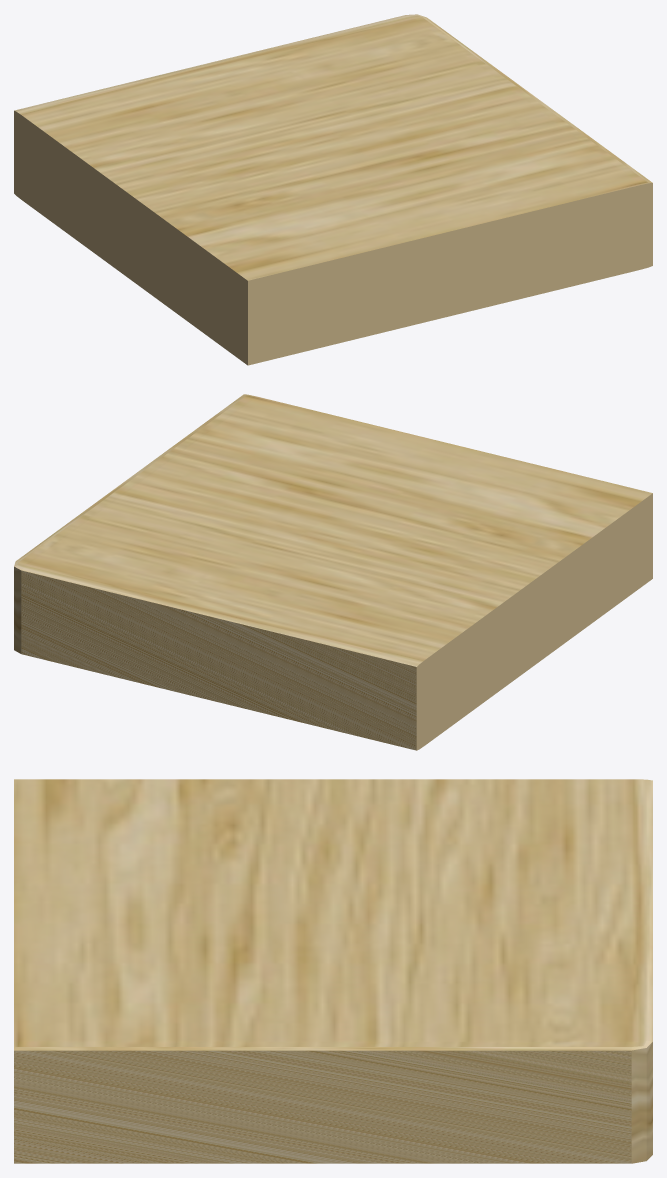
The model's file is 2_Holzbahn.fbx.
3 renders of one model, top to bottom at view 1: azimuth 30°, elevation 25°; view 2: azimuth 150°, elevation 25°; view 3: azimuth 270°, elevation 25°, orthographic. The views are drawn at different scales.
Parts seen in each view (by area): view 1: Cube.011; view 2: Cube.011; view 3: Cube.011.
Boxes of the visible parts, x1,y1,x2,y2 form: Cube.011: (14, 14, 652, 365); Cube.011: (14, 394, 652, 750); Cube.011: (14, 779, 652, 1163).
Size of the model in its own units: 500 by 100 by 500.
